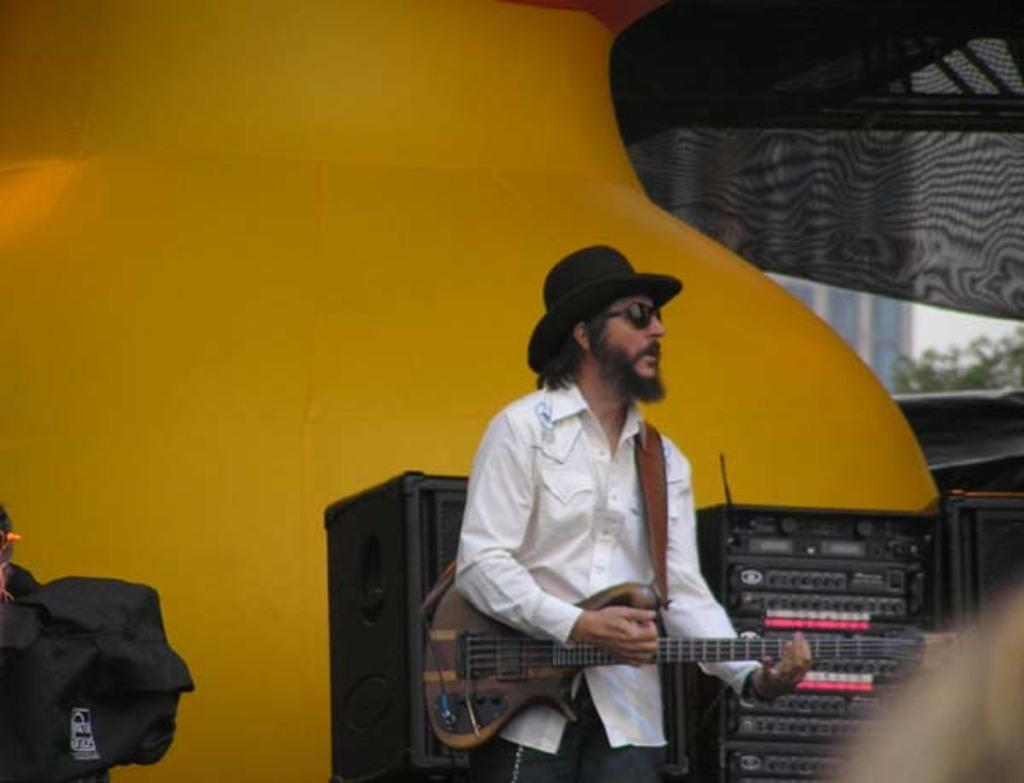Hat: (526, 244, 686, 374)
